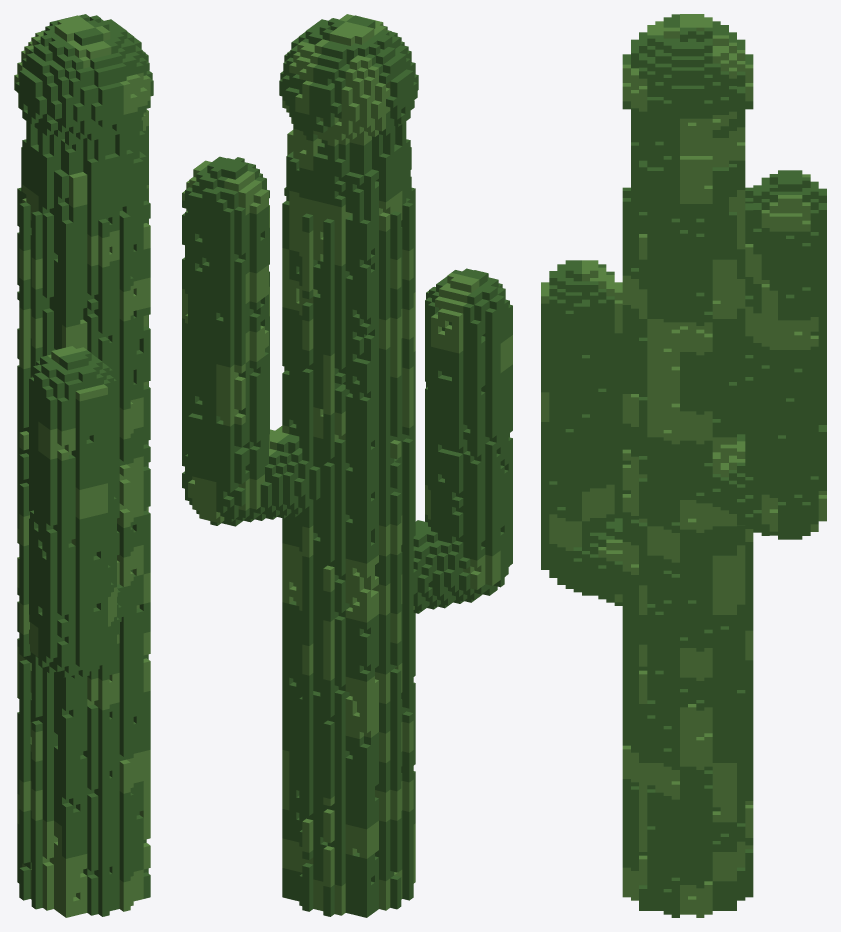
The model's file is tree_dunes_0.obj.
The picture shows the model from 3 angles, left to right: view 1: azimuth 30°, elevation 25°; view 2: azimuth 150°, elevation 25°; view 3: azimuth 270°, elevation 25°; orthographic projection.
Bounding box in the file's own units: 0.725 × 2.92 × 0.875.
Materials: 1 (1 with a texture image).
